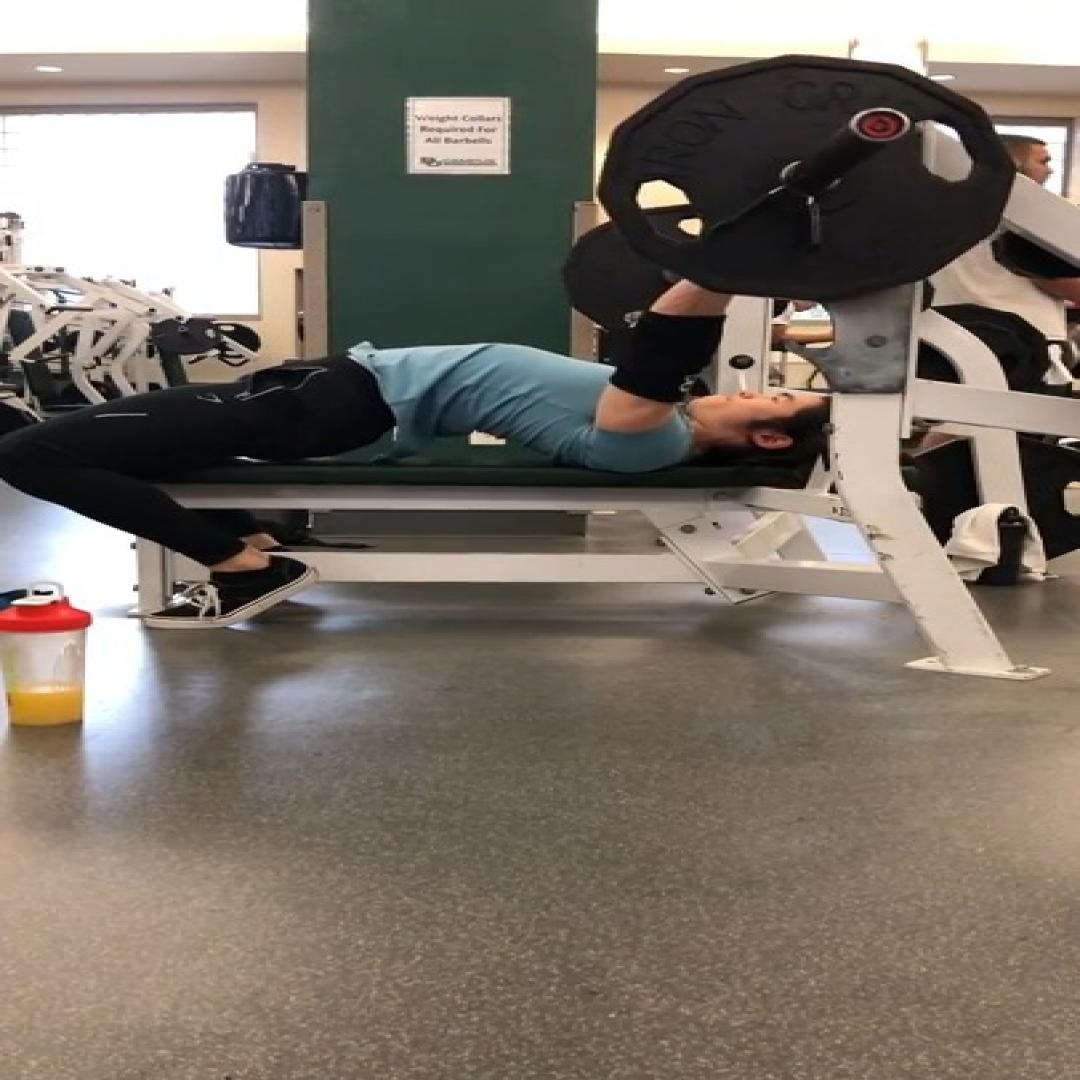Bar: (846, 107, 912, 142)
Barbell: (596, 54, 1016, 302)
